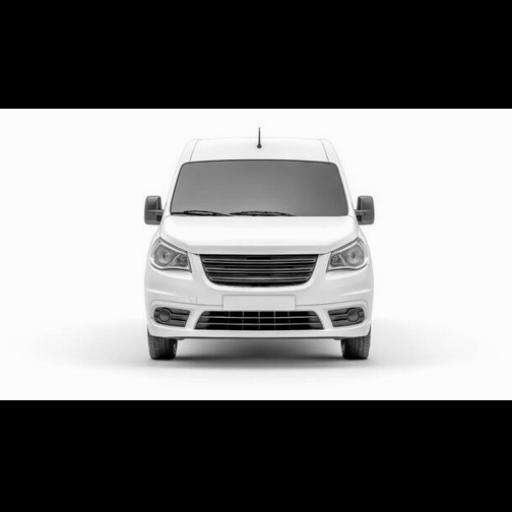van: (145, 138, 373, 359)
